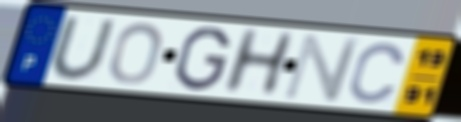C: (345, 40, 408, 106)
G: (172, 25, 233, 93)
H: (218, 27, 300, 96)
N: (280, 33, 365, 103)
O: (107, 21, 166, 87)
U: (48, 16, 119, 83)
